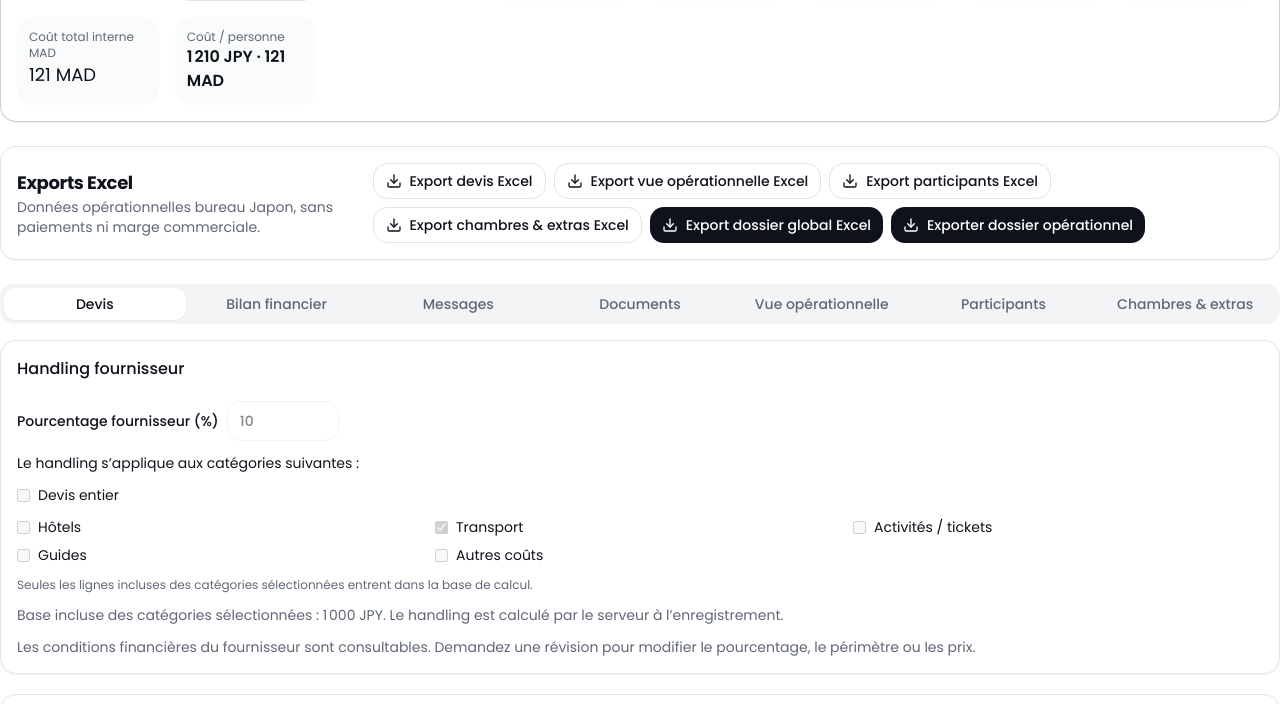
Test: existing supplier quotation lifecycle through the admin cockpit › shows the bookings read error and unknown revenue rather than a fake loss
(page scrolled)
Press the mouse on the tab "Bilan financier" at (277, 304), box [186,288,367,320]
(page scrolled)
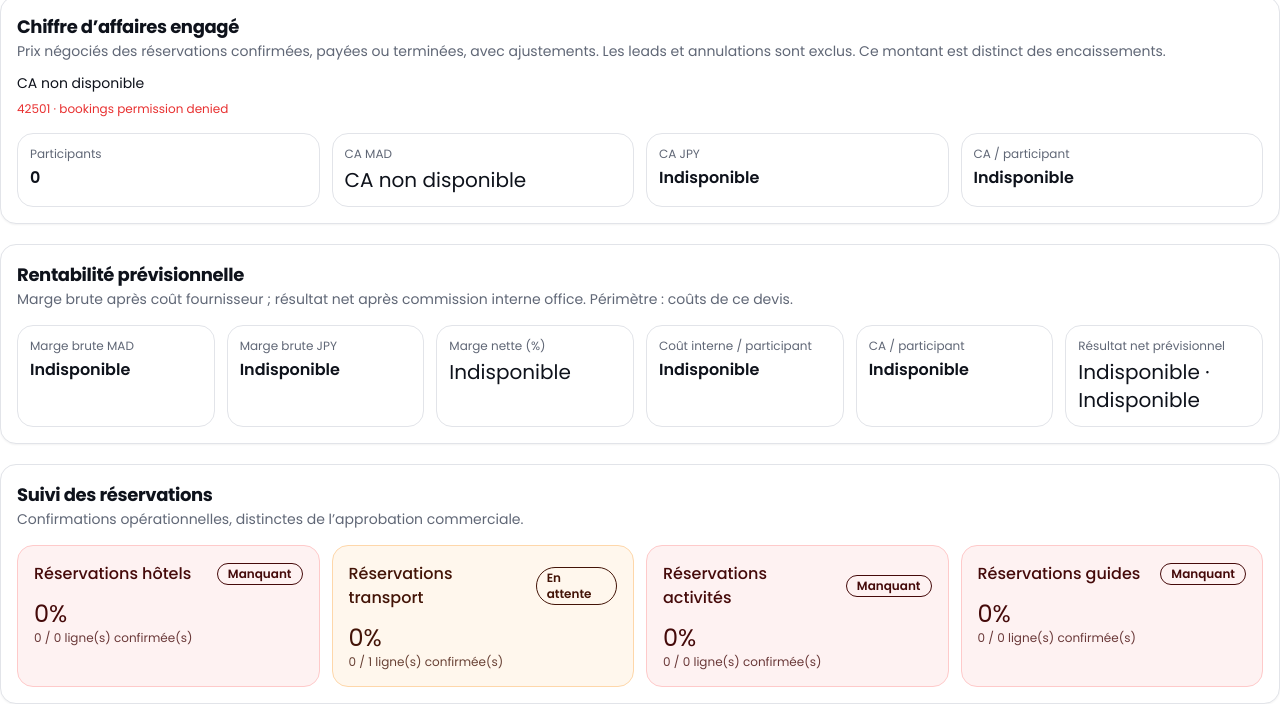
Result: the message "42501 · bookings permission denied" is shown at [17,100,228,117]
